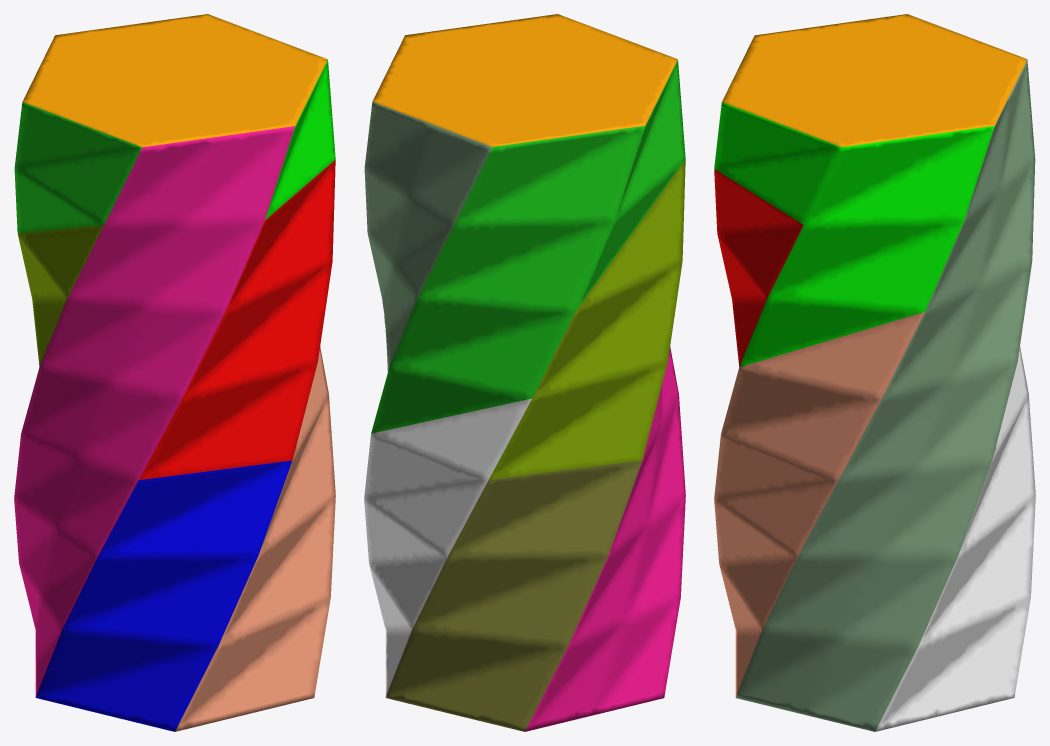
The model's file is model_93_segmented_new.obj.
3 renders of one model, left to right at view 1: azimuth 30°, elevation 25°; view 2: azimuth 150°, elevation 25°; view 3: azimuth 270°, elevation 25°, orthographic.
Bounding box in the file's own units: 13.88 × 27.78 × 13.88.
